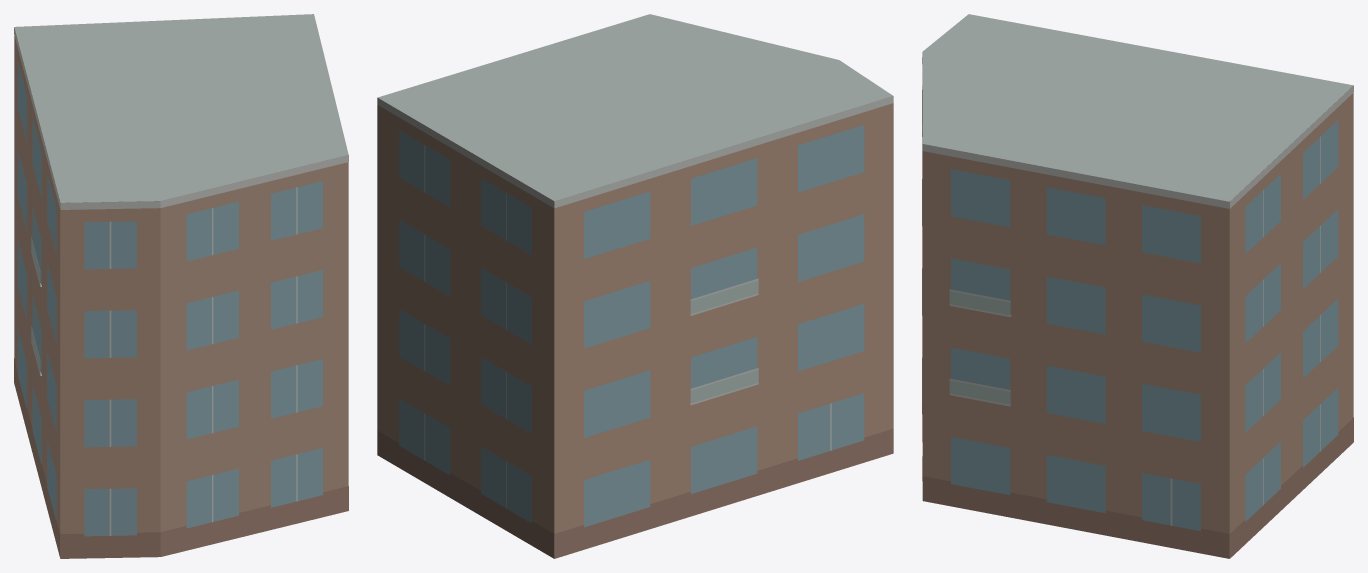
Rendered from survey-upis-32520379.glb.
3 renders of one model, left to right at view 1: azimuth 30°, elevation 25°; view 2: azimuth 150°, elevation 25°; view 3: azimuth 270°, elevation 25°, orthographic.
Visible parts, largest first — view 1: survey-upis-32520379.tmp; view 2: survey-upis-32520379.tmp; view 3: survey-upis-32520379.tmp.
Boxes of the visible parts, <box> form: survey-upis-32520379.tmp: <box>14,14,348,558</box>; survey-upis-32520379.tmp: <box>377,14,893,558</box>; survey-upis-32520379.tmp: <box>922,14,1353,558</box>.
Bounding box in the file's own units: 13.77 × 12.2 × 13.37.
